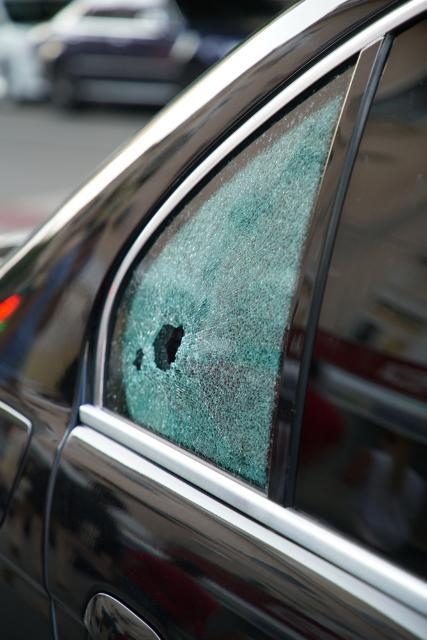glass shatter: (104, 58, 359, 493)
